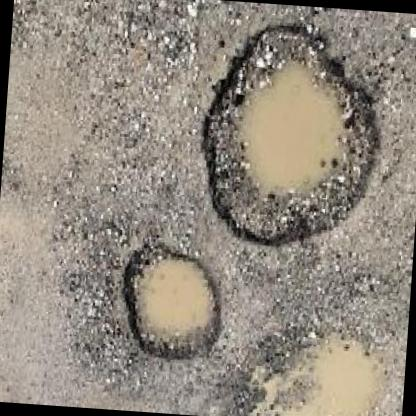pothole: (189, 13, 392, 259), (239, 318, 395, 416), (115, 244, 229, 368)
